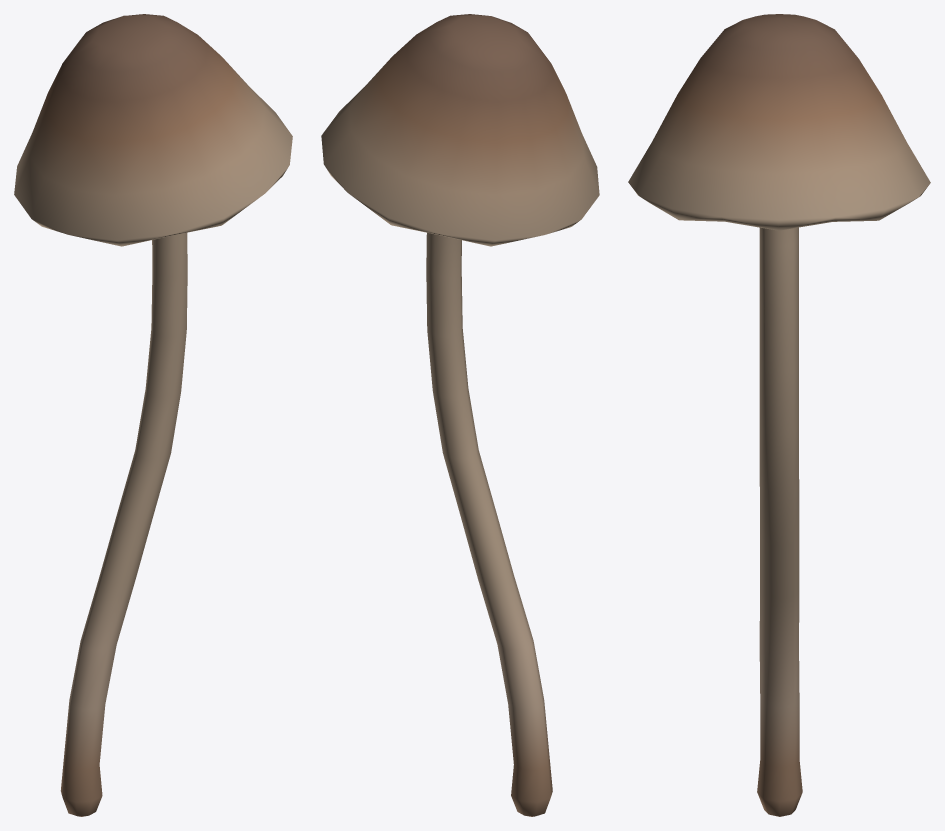
The model's file is plants-mushrooms-bell-cap-mushroom_v1.glb.
3 renders of one model, left to right at view 1: azimuth 30°, elevation 25°; view 2: azimuth 150°, elevation 25°; view 3: azimuth 270°, elevation 25°, orthographic. The views are drawn at different scales.
Parts seen in each view (by area): view 1: Bell Cap Mushroom_v1; view 2: Bell Cap Mushroom_v1; view 3: Bell Cap Mushroom_v1.
Boxes of the visible parts, x1,y1,x2,y2 form: Bell Cap Mushroom_v1: (14, 14, 292, 816); Bell Cap Mushroom_v1: (321, 14, 599, 816); Bell Cap Mushroom_v1: (628, 14, 930, 816).
Bounding box in the file's own units: 0.0393 × 0.12 × 0.0399.
